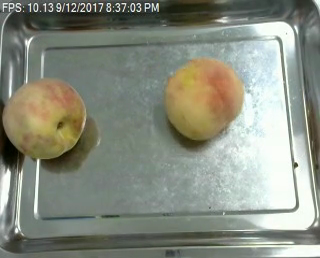Peach: (2, 77, 87, 161), (164, 57, 244, 141)
